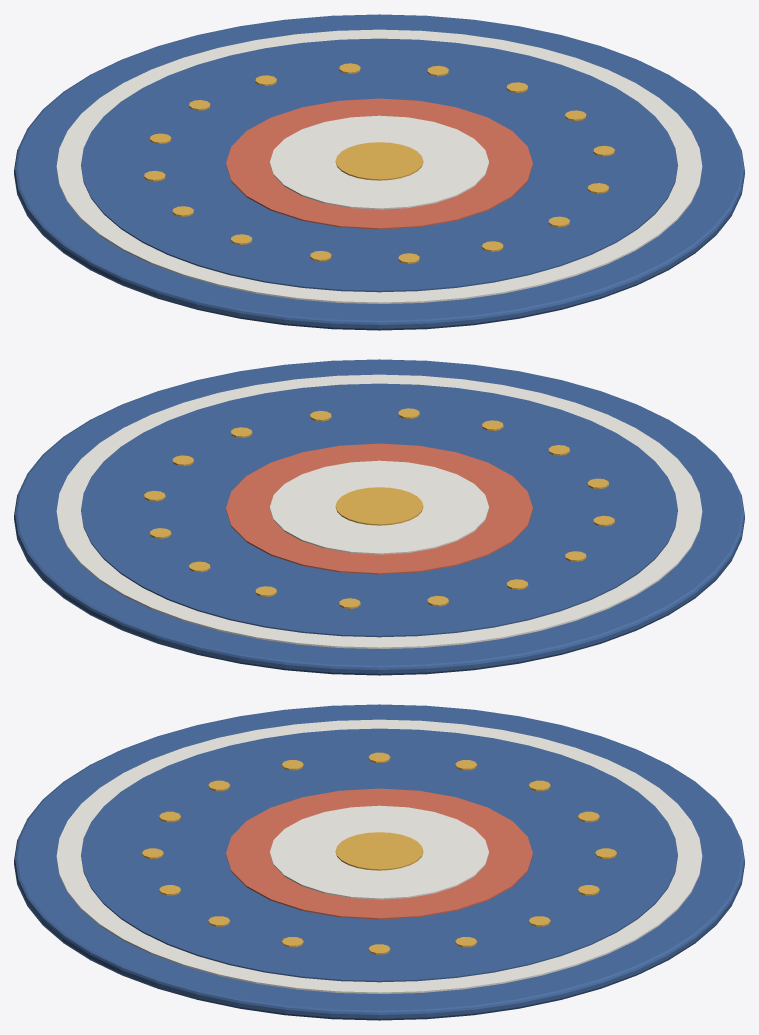
The model's file is hh_cat_round_rug.glb.
3 views of the same model, one above another, from view 1: azimuth 30°, elevation 25°; view 2: azimuth 150°, elevation 25°; view 3: azimuth 270°, elevation 25° (orthographic).
Visible parts, largest first — view 1: rug_field, rug, rug_ring, rug_ring.001, rug_ring.002, rug_centre; view 2: rug_field, rug, rug_ring, rug_ring.001, rug_ring.002, rug_centre; view 3: rug_field, rug, rug_ring, rug_ring.001, rug_ring.002, rug_centre.
Boxes of the visible parts, <box> form: rug_field: <box>81,38,677,292</box>; rug: <box>14,14,744,330</box>; rug_ring: <box>56,29,702,303</box>; rug_ring.001: <box>226,98,532,229</box>; rug_ring.002: <box>270,115,488,209</box>; rug_centre: <box>335,142,423,180</box>; rug_field: <box>81,383,677,637</box>; rug: <box>14,359,744,675</box>; rug_ring: <box>56,374,702,648</box>; rug_ring.001: <box>226,443,532,574</box>; rug_ring.002: <box>270,460,488,554</box>; rug_centre: <box>335,487,423,525</box>; rug_field: <box>81,728,677,982</box>; rug: <box>14,704,744,1020</box>; rug_ring: <box>56,719,702,993</box>; rug_ring.001: <box>226,788,532,919</box>; rug_ring.002: <box>270,805,488,899</box>; rug_centre: <box>335,832,423,870</box>.
Bounding box in the file's own units: 1.2 × 0.03 × 1.2.
